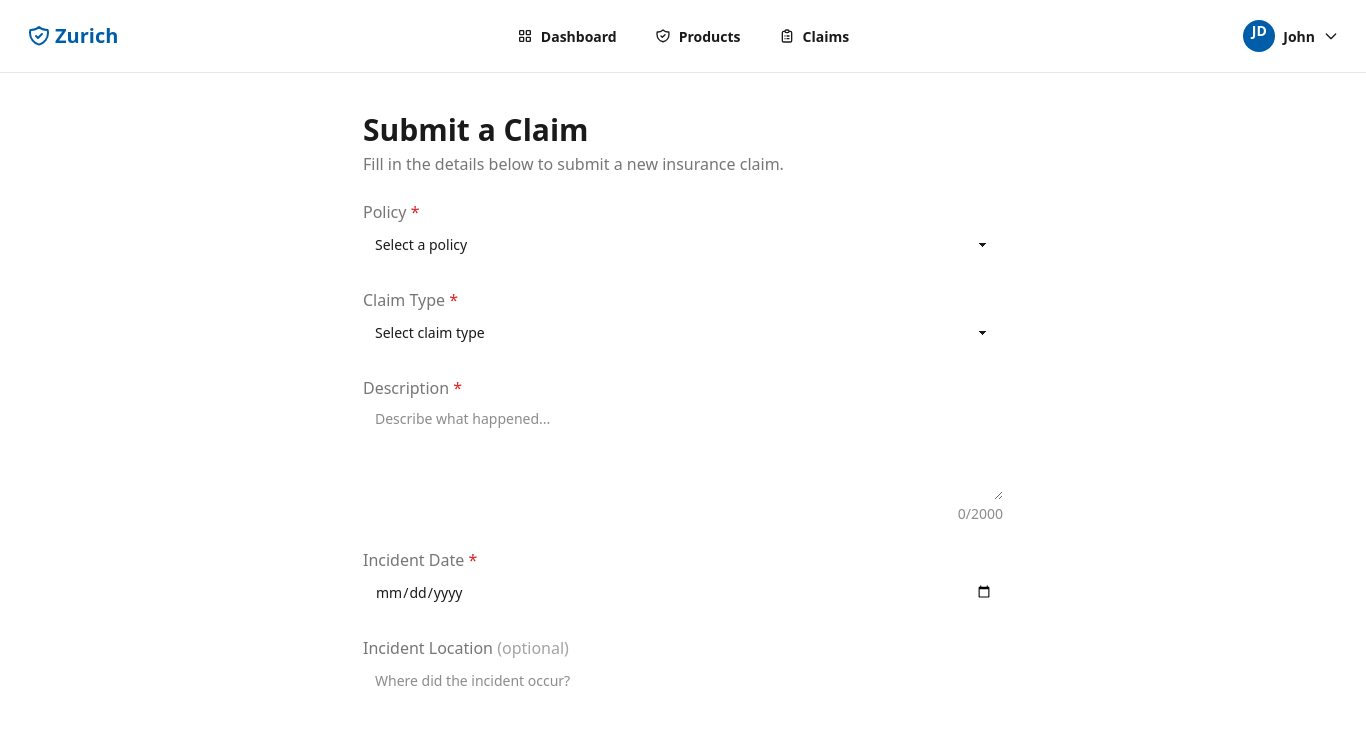
Scenario: Submit Claim Page › shows "Description must be at least 10 characters" for short description
The image size is (1366, 741).
// Fill in required fields but short description
Step 1. Type "Short" into the text box labelled "Description *" → (683, 450), box [363,400,1003,500]
(page scrolled)
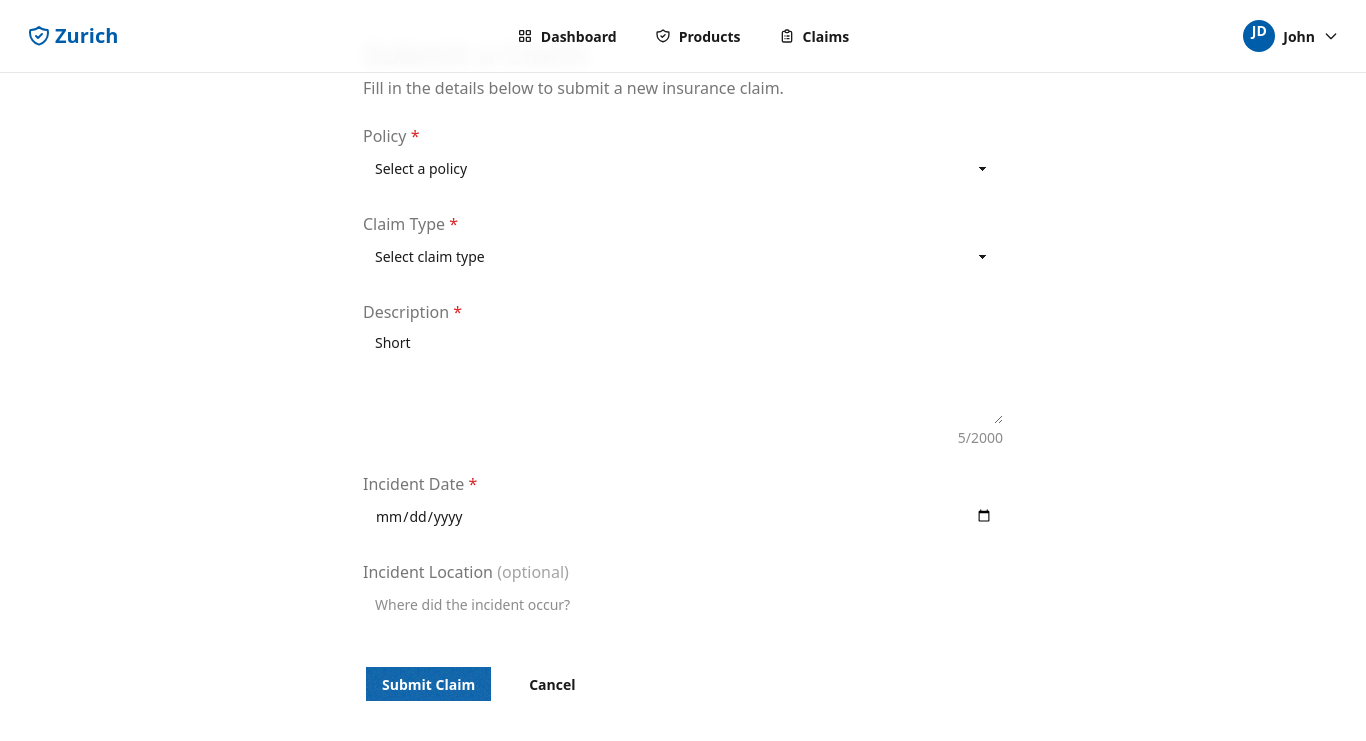
Step 2. Click the button "Submit Claim" → click(429, 684), box [363,664,494,704]
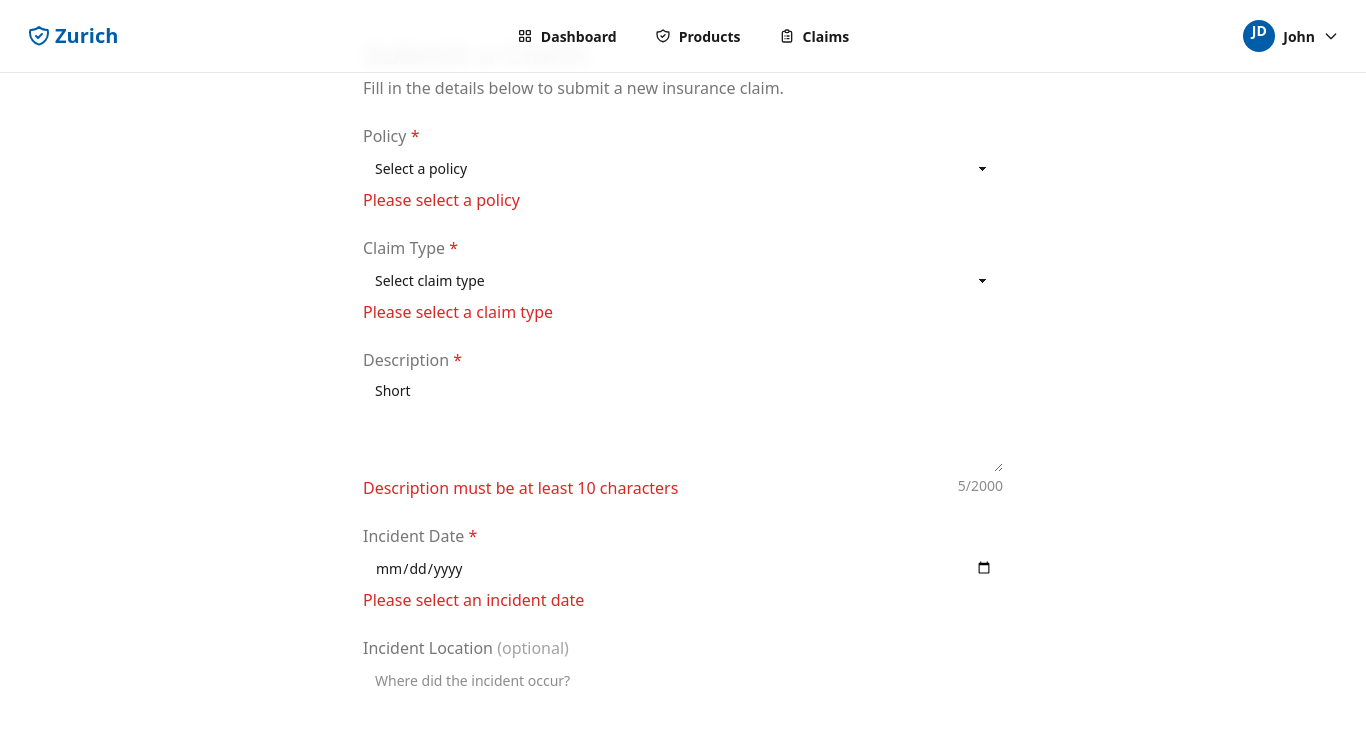
Result: the text "Description must be at least 10 characters" is shown at [363,476,678,500]
